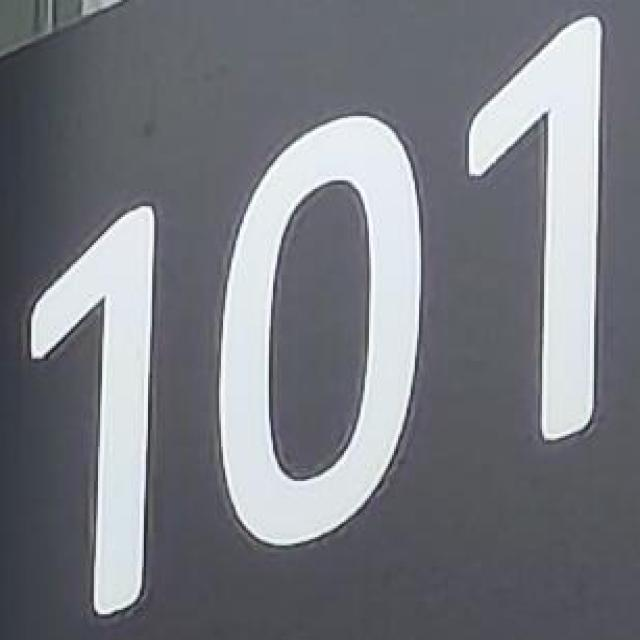character: (211, 109, 431, 556), (462, 9, 612, 449), (23, 201, 166, 625)
